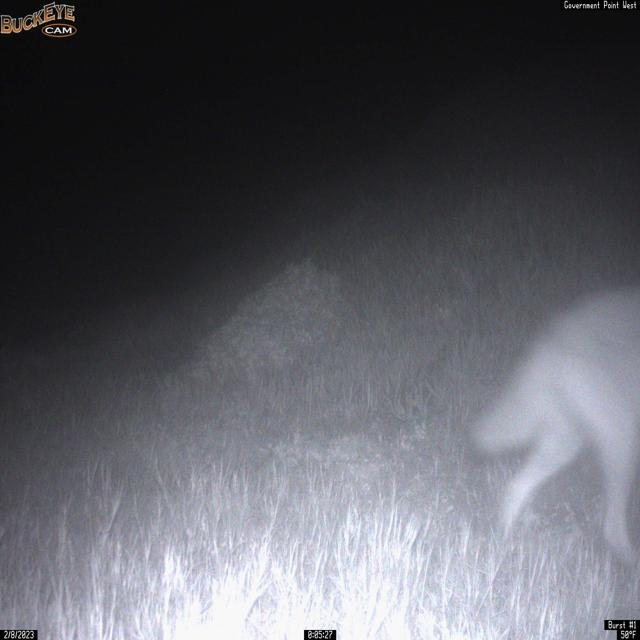coyote: (464, 280, 640, 570)
